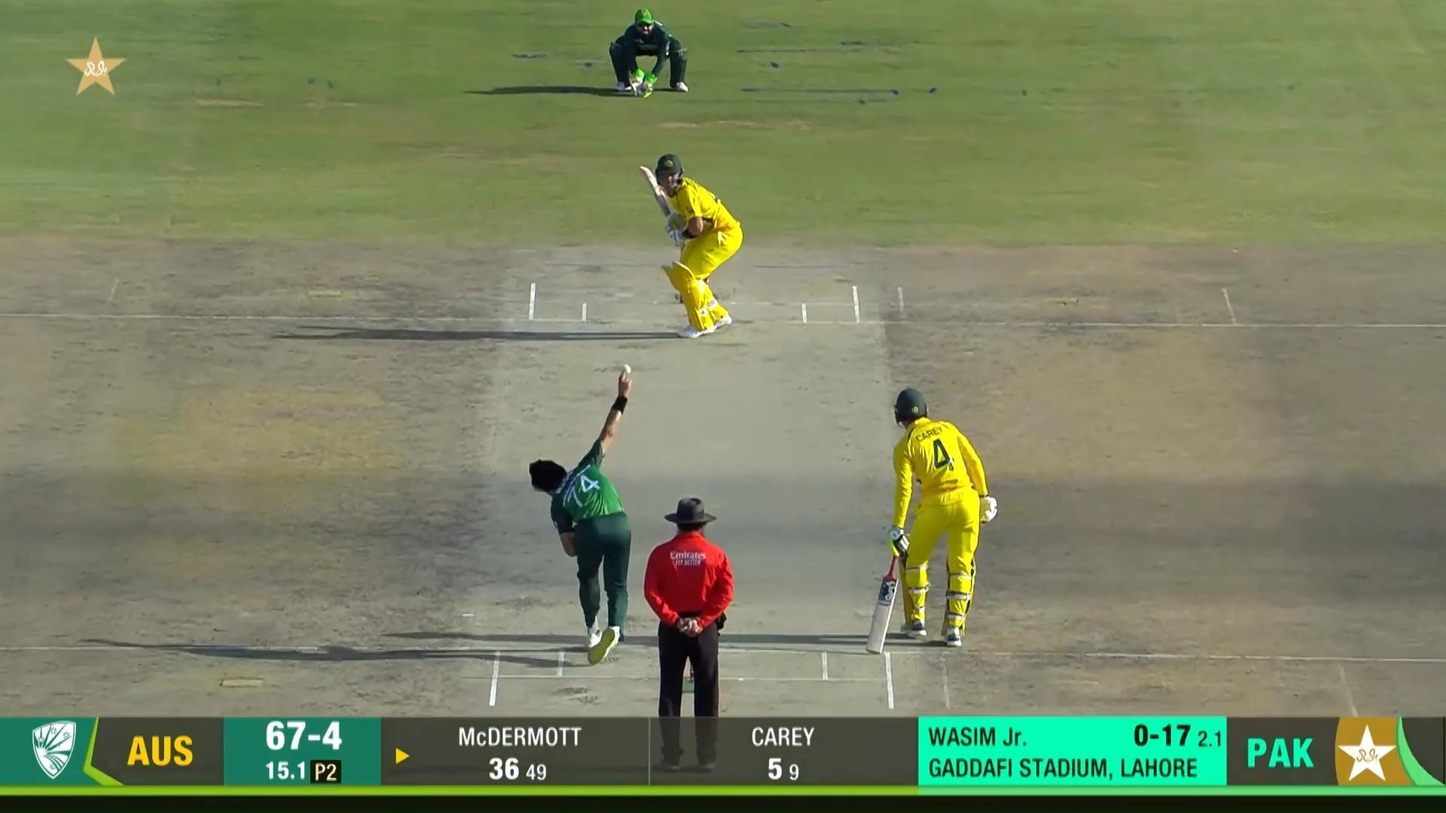BM 1: (639, 153, 744, 339)
BO: (526, 370, 637, 667)
